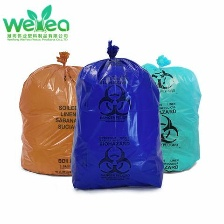plastic_bag: (65, 30, 167, 197), (128, 49, 207, 178), (16, 47, 83, 182)
